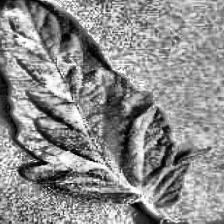leaf mold: (0, 0, 176, 201)
